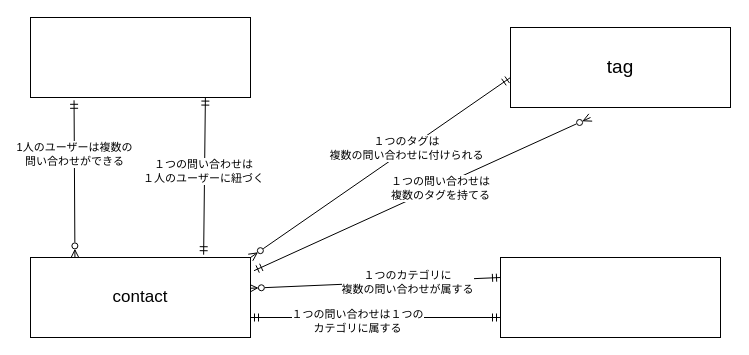
This 749x355 diagram has some shape labels left out. The shapes that lost their labels are listed below. From the top down, each one's box as (x1, y1, x2, y2) in pixels, then its label:
(30, 16, 250, 98): user
(500, 256, 720, 338): category
